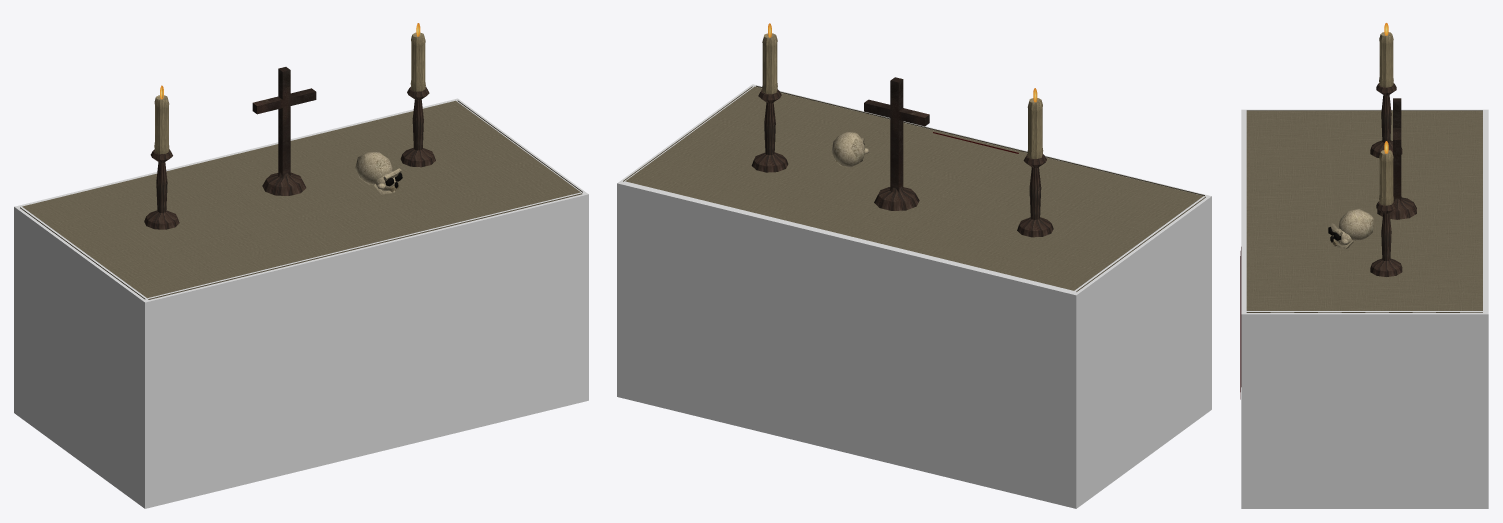
The model's file is altar_cloth_v1.glb.
The picture shows the model from 3 angles, left to right: view 1: azimuth 30°, elevation 25°; view 2: azimuth 150°, elevation 25°; view 3: azimuth 270°, elevation 25°; orthographic projection. The views are drawn at different scales.
Visible parts, largest first — view 1: col_altar, altar; view 2: col_altar, altar; view 3: col_altar, altar.
Boxes of the visible parts, x1=… form: col_altar: x1=14, y1=98, x2=588, y2=508; altar: x1=20, y1=23, x2=582, y2=299; col_altar: x1=617, y1=84, x2=1211, y2=508; altar: x1=623, y1=23, x2=1205, y2=291; col_altar: x1=1241, y1=109, x2=1488, y2=508; altar: x1=1240, y1=23, x2=1482, y2=399.
Bounding box in the file's own units: 2.25 × 1.7 × 1.15.
9 materials, 9 textured.
